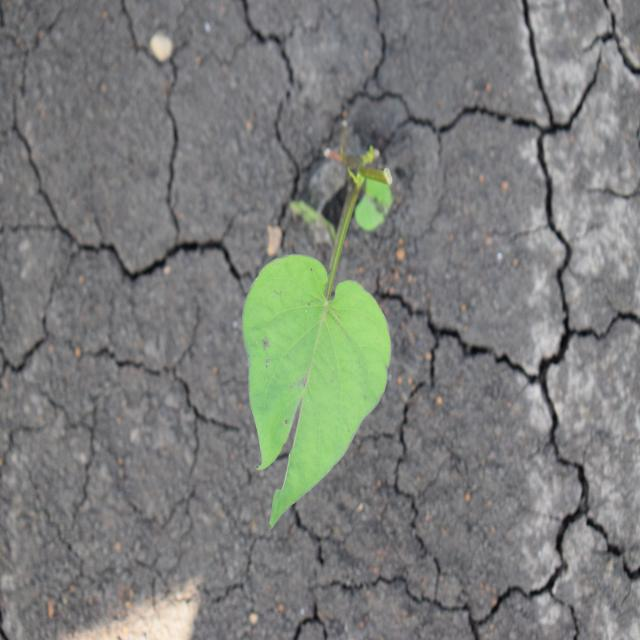MorningGlory: (240, 144, 396, 531)
